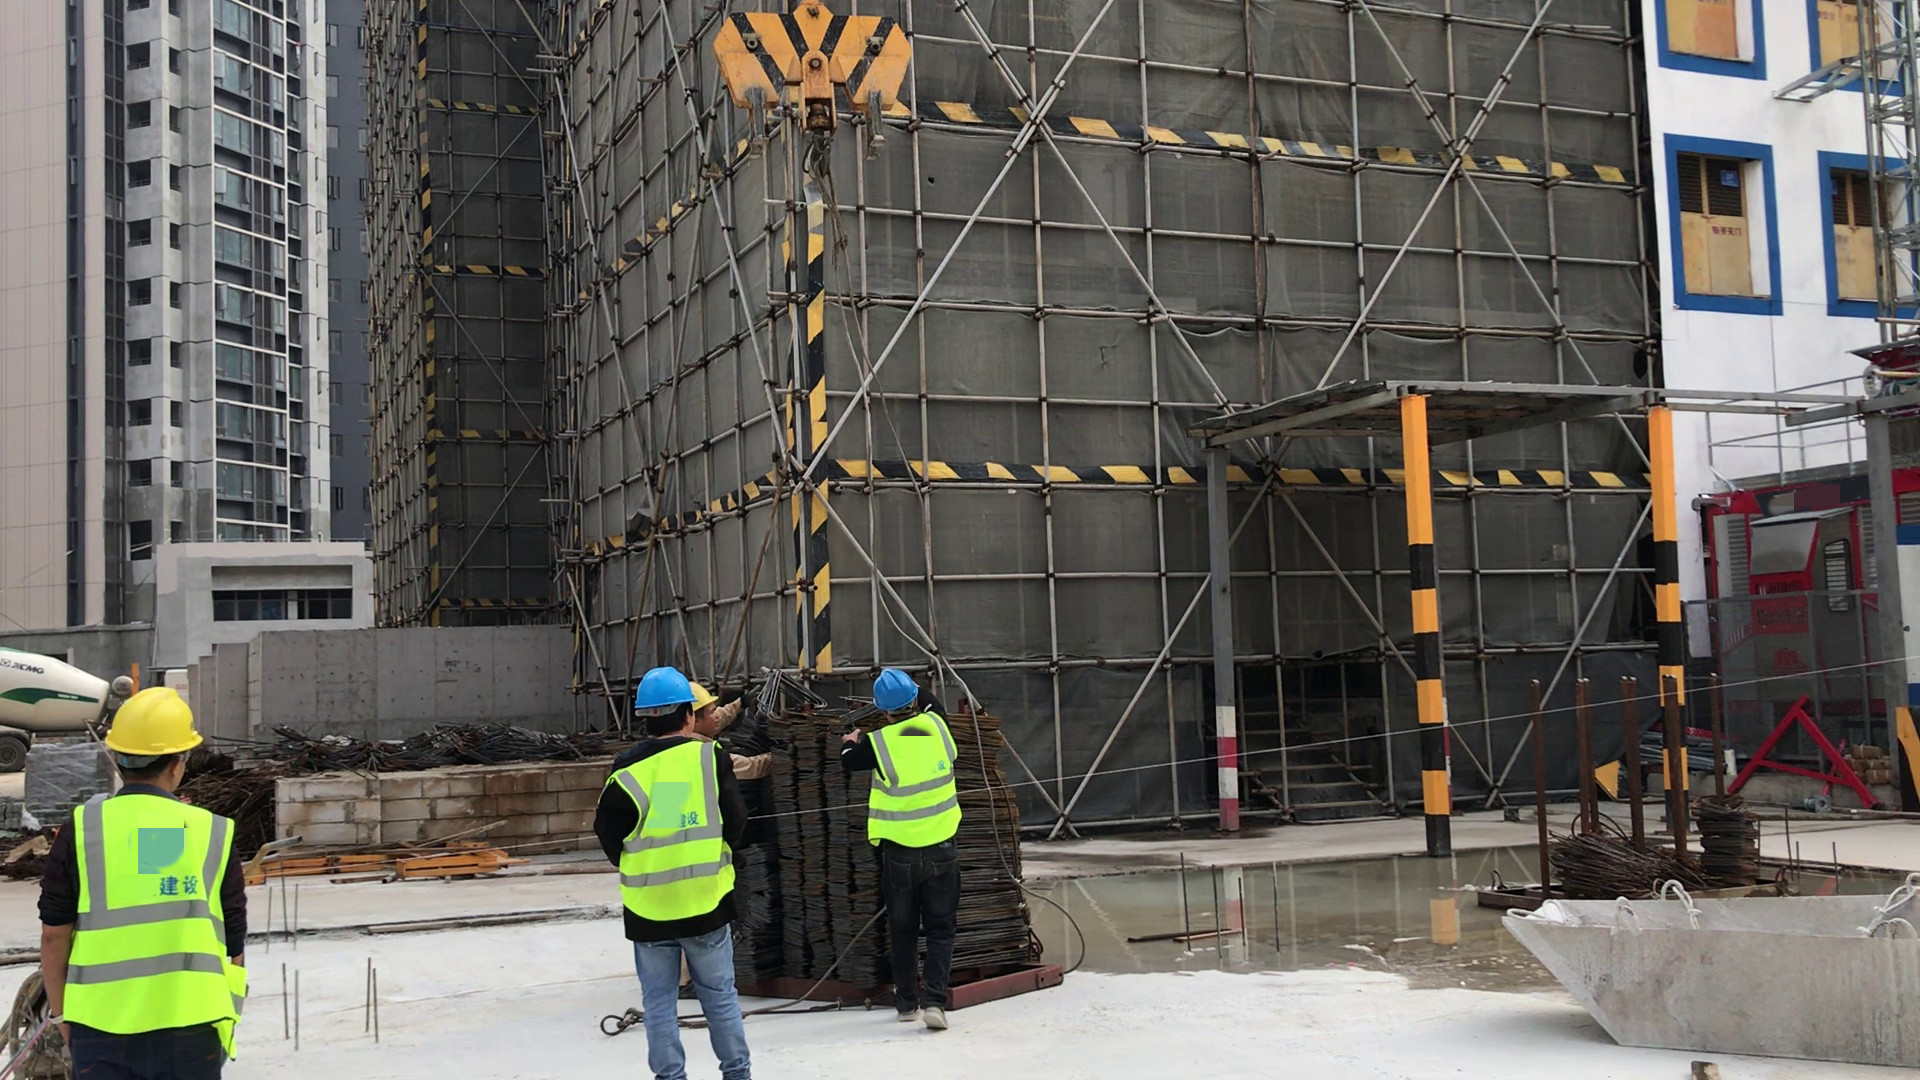brick: (266, 744, 622, 864)
helmet: (99, 682, 204, 759), (630, 663, 700, 712), (869, 665, 922, 711), (685, 678, 723, 716)
hook: (698, 11, 919, 134)
hopper: (1485, 875, 1915, 1080)
person: (37, 679, 253, 1080), (591, 662, 758, 1080), (840, 663, 958, 1033)
vest: (56, 790, 247, 1052), (596, 735, 739, 927), (862, 703, 968, 861)
